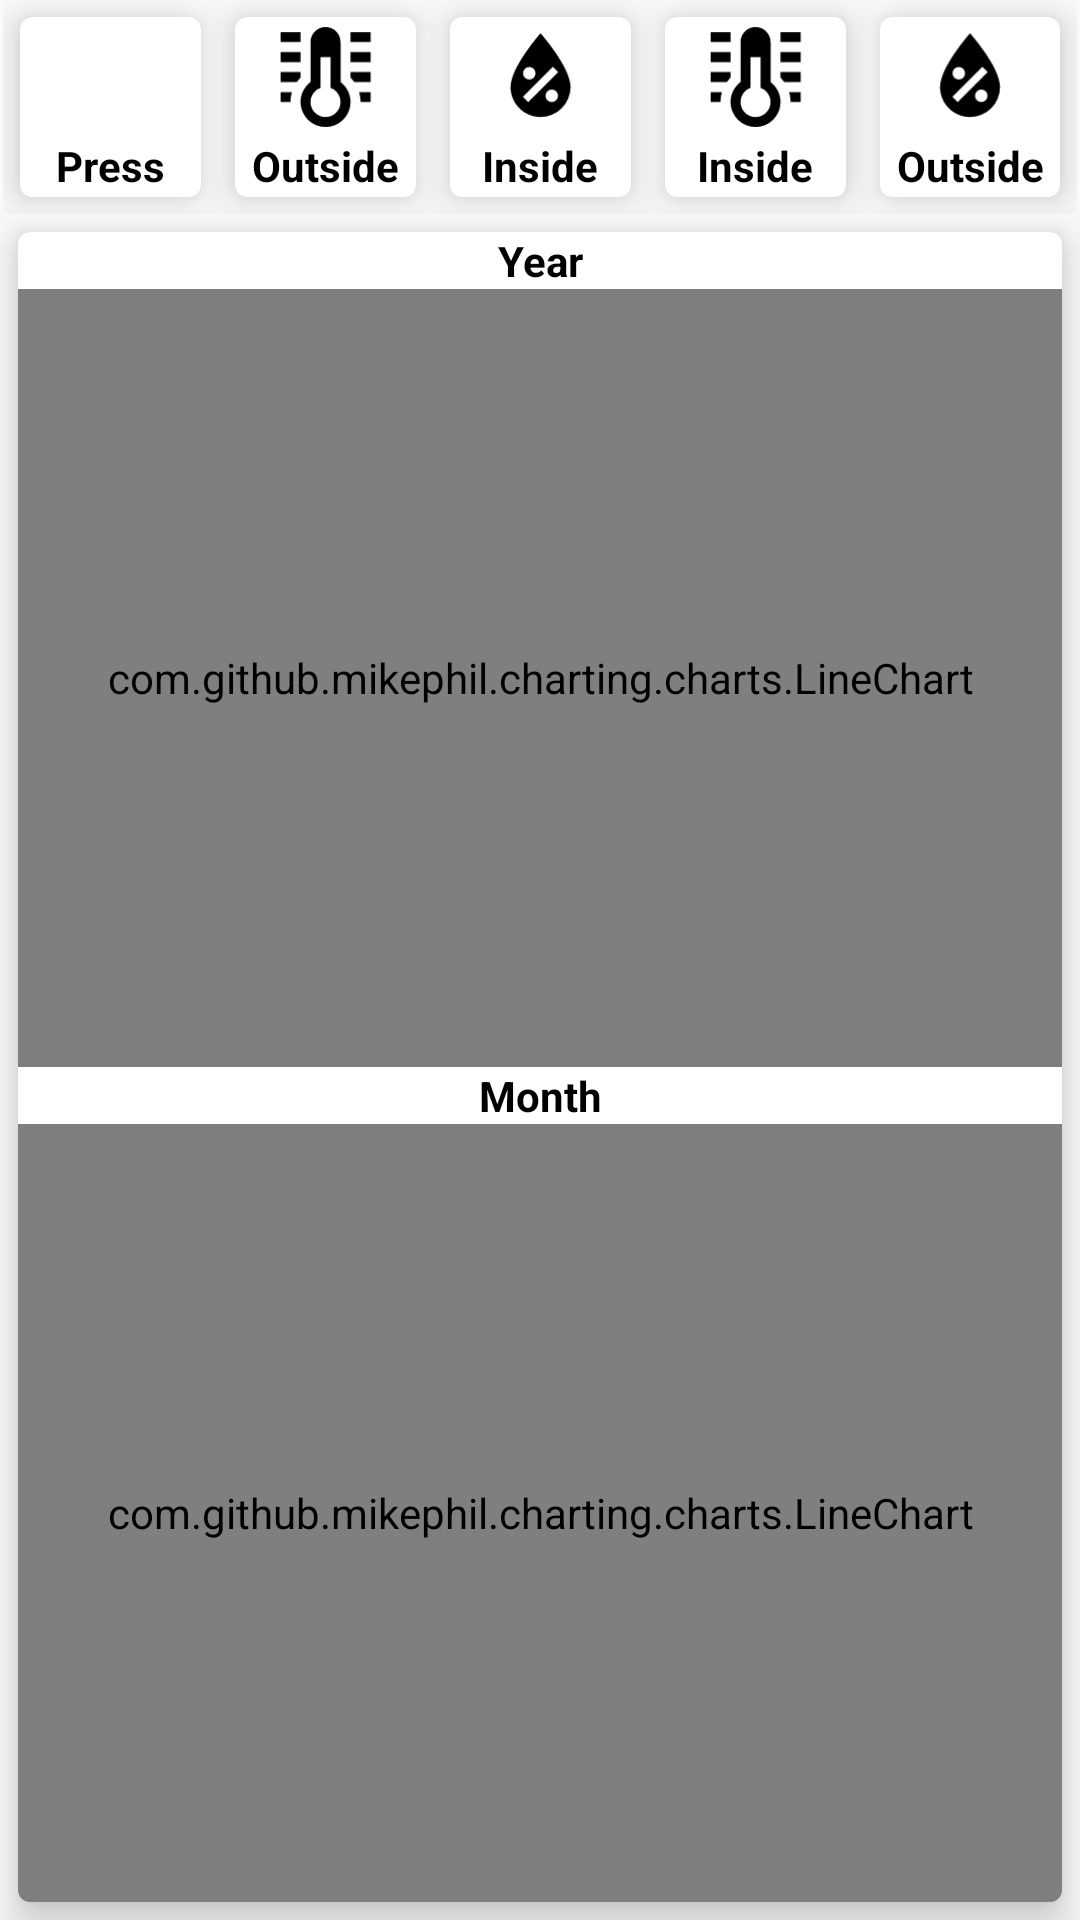

Named icons in this screenshot (1080px x 1920px) and their centers, [x,y]:
thermometer lines: [348,75], [733,75]
water percent: [540,67], [940,71]
